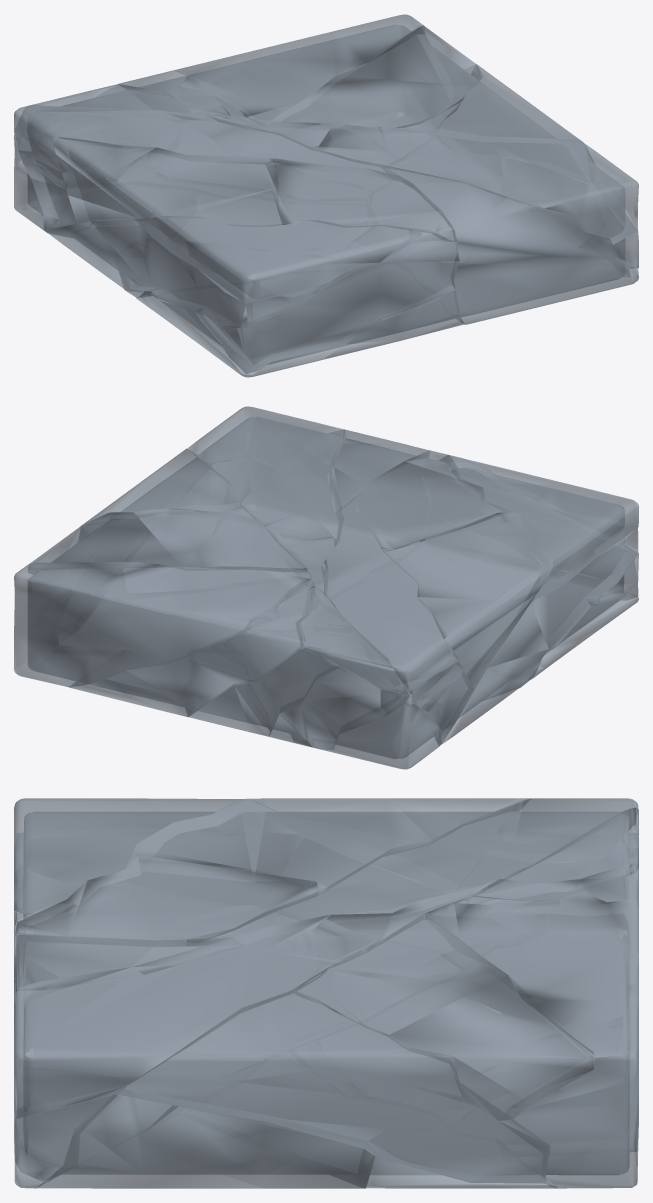
Rendered from block_broken.fbx.
3 renders of one model, top to bottom at view 1: azimuth 30°, elevation 25°; view 2: azimuth 150°, elevation 25°; view 3: azimuth 270°, elevation 25°, orthographic. The views are drawn at different scales.
Parts seen in each view (by area): view 1: polySurface17, polySurface10, polySurface2, polySurface1, polySurface4, polySurface5, polySurface18, polySurface6, polySurface8, polySurface25, polySurface16, polySurface15 (+15 smaller); view 2: polySurface10, polySurface17, polySurface2, polySurface4, polySurface1, polySurface8, polySurface11, polySurface6, polySurface5, polySurface25, polySurface16, polySurface18 (+15 smaller); view 3: polySurface7, polySurface17, polySurface10, polySurface1, polySurface8, polySurface4, polySurface15, polySurface25, polySurface6, polySurface2, polySurface16, polySurface5 (+14 smaller).
Boxes of the visible parts, x1,y1,x2,y2 form: polySurface17: (136, 262, 464, 377); polySurface10: (174, 14, 449, 158); polySurface2: (383, 168, 638, 324); polySurface1: (310, 126, 638, 244); polySurface4: (52, 136, 303, 227); polySurface5: (133, 216, 421, 303); polySurface18: (194, 229, 459, 373); polySurface6: (14, 104, 400, 181); polySurface8: (270, 25, 483, 129); polySurface25: (44, 219, 325, 328); polySurface16: (343, 140, 502, 262); polySurface15: (467, 157, 630, 276); polySurface10: (14, 562, 311, 687); polySurface17: (333, 513, 638, 679); polySurface2: (236, 429, 430, 602); polySurface4: (383, 512, 553, 689); polySurface1: (188, 406, 346, 544); polySurface8: (28, 509, 307, 581); polySurface11: (69, 577, 315, 717); polySurface6: (322, 493, 459, 701); polySurface5: (449, 457, 638, 603); polySurface25: (410, 510, 638, 745); polySurface16: (65, 579, 345, 649); polySurface18: (423, 455, 638, 605); polySurface7: (114, 989, 555, 1186); polySurface17: (14, 889, 298, 1078); polySurface10: (425, 892, 638, 1188); polySurface1: (14, 914, 372, 1118); polySurface8: (325, 912, 594, 1120); polySurface4: (134, 798, 530, 894); polySurface15: (36, 1089, 375, 1188); polySurface25: (14, 833, 514, 969); polySurface6: (187, 798, 638, 945); polySurface2: (14, 935, 241, 1188); polySurface16: (187, 1055, 557, 1188); polySurface5: (14, 798, 284, 917).
Size of the model in its own units: 0.9983 by 0.2477 by 1.02.
